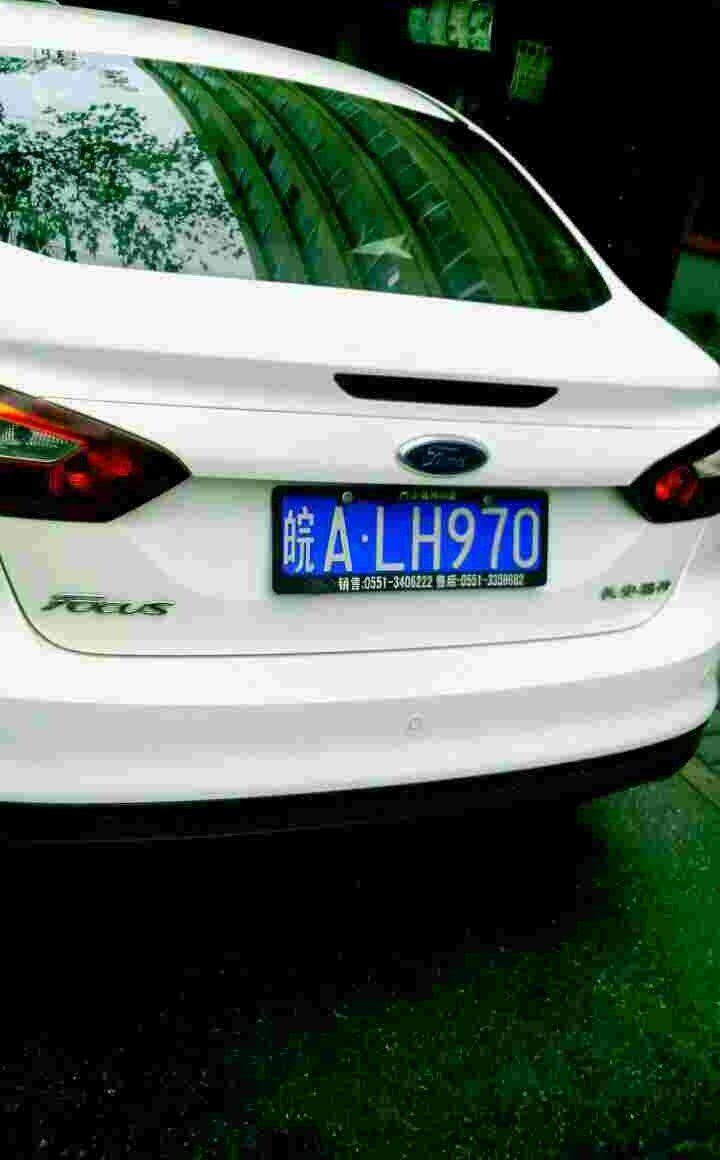license_plate: (275, 493, 546, 585)
